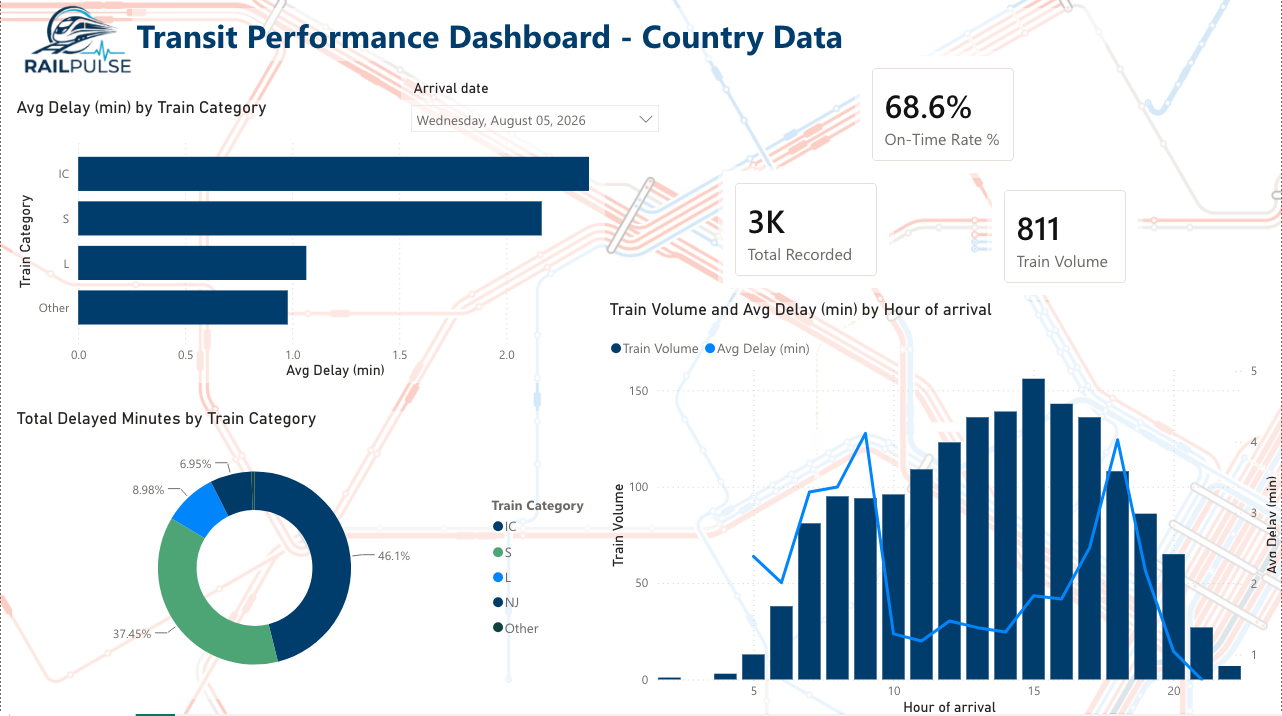

What the dashboard file says about the page in this screenshot:
{"tool":"powerbi","page":{"name":"Country data","canvas":[1280,720],"ordinal":0},"visuals":[{"type":"cardVisual","title":"On-Time Rate (reporting routes)","fields":{"Data":["trip_stop_updates.On-Time Rate %"]},"box":[854,51,176,127],"z":0},{"type":"lineClusteredColumnComboChart","fields":{"Category":["trip_stop_updates.Hour of arrival"],"Y":["trip_stop_updates.Train Volume"],"Y2":["trip_stop_updates.Avg Delay (min)"]},"box":[604.2,302.1,675.7,417.9],"z":1000},{"type":"clusteredBarChart","fields":{"Category":["dim_routes.Train Category"],"Y":["trip_stop_updates.Avg Delay (min)"]},"box":[11.1,99.7,593.1,283],"z":2000},{"type":"donutChart","fields":{"Category":["dim_routes.Train Category"],"Y":["trip_stop_updates.Total Delayed Minutes"]},"box":[11.1,410.9,593.1,288],"z":3000},{"type":"image","box":[0,0,154.1,83.6],"z":4000},{"type":"textbox","box":[131,8,974,53],"z":5000},{"type":"cardVisual","fields":{"Data":["trip_stop_updates.Total Recorded"]},"box":[716.6,165.6,176,127],"z":6000},{"type":"cardVisual","fields":{"Data":["trip_stop_updates.Train Volume"]},"box":[986.3,172.7,156,127],"z":7000},{"type":"slicer","fields":{"Values":["trip_stop_updates.Arrival date"]},"box":[400,77,267.9,75.5],"z":8001}]}

Visuals, with their boxes in screenshot pixels (x1, y1, x2, y2), scaled from the page's 1280x720 canvas onto the 1282x716 screenshot:
"On-Time Rate (reporting routes)" cardVisual: <region>855, 51, 1032, 177</region>
lineClusteredColumnComboChart - trip_stop_updates.Hour of arrival x trip_stop_updates.Train Volume: <region>605, 300, 1281, 715</region>
clusteredBarChart - dim_routes.Train Category x trip_stop_updates.Avg Delay (min): <region>11, 99, 605, 381</region>
donutChart - dim_routes.Train Category x trip_stop_updates.Total Delayed Minutes: <region>11, 409, 605, 695</region>
image: <region>0, 0, 154, 83</region>
textbox: <region>131, 8, 1107, 61</region>
cardVisual - trip_stop_updates.Total Recorded: <region>718, 165, 894, 291</region>
cardVisual - trip_stop_updates.Train Volume: <region>988, 172, 1144, 298</region>
slicer - trip_stop_updates.Arrival date: <region>401, 77, 669, 152</region>
